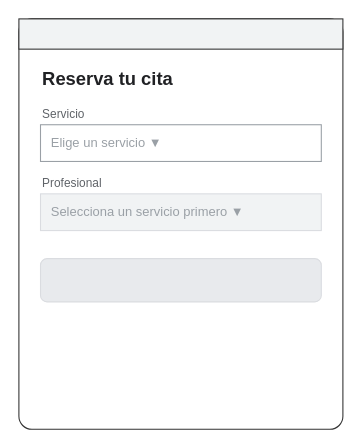
The diagram is 362 pixels wide and 448 high, and some of its shapes have lost their labels. The shapes that lost their labels are listed below. From the top down, each one's box as (x1, y1, x2, y2) in pixels, then its label:
(18, 18, 343, 49): barberia-paco.tuplataforma.com
(39, 258, 321, 302): Continuar
